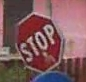stop: (13, 9, 62, 74)
